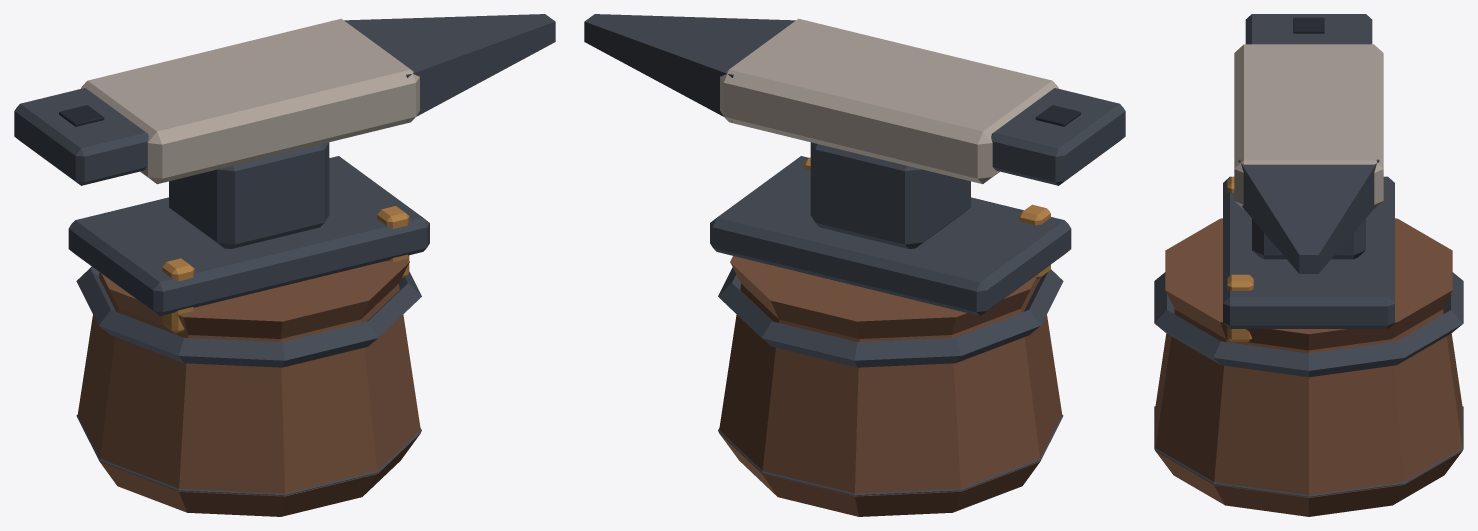
Rendered from 02_Horn_Anvil.glb.
3 views of the same model, side by side, from view 1: azimuth 30°, elevation 25°; view 2: azimuth 150°, elevation 25°; view 3: azimuth 270°, elevation 25° (orthographic). The views are drawn at different scales.
Visible parts, largest first — view 1: 02_Horn_Anvil__Body; view 2: 02_Horn_Anvil__Body; view 3: 02_Horn_Anvil__Body.
Part boxes in pixels (x1,y1,x2,y2): 02_Horn_Anvil__Body: (14,14,555,516); 02_Horn_Anvil__Body: (584,14,1125,516); 02_Horn_Anvil__Body: (1154,14,1463,516).
Size of the model in its own units: 3.11 by 2.23 by 1.76.
1 material, 1 textured.
